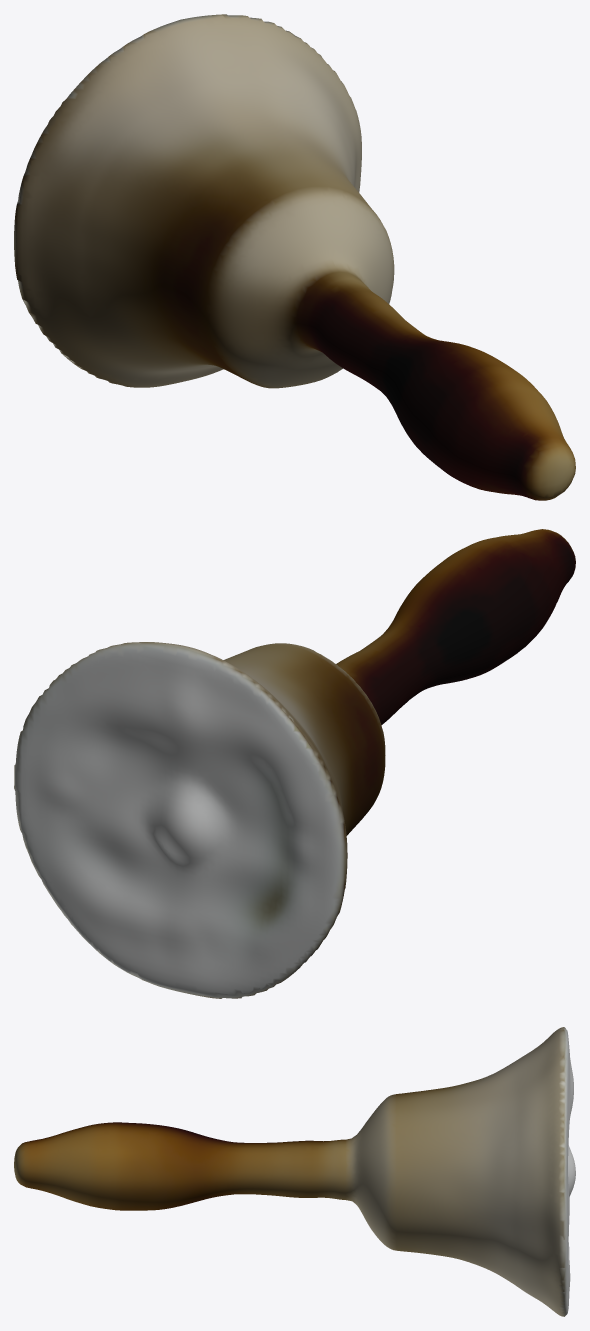
File: bell.glb
3 views of the same model, one above another, from view 1: azimuth 30°, elevation 25°; view 2: azimuth 150°, elevation 25°; view 3: azimuth 270°, elevation 25° (orthographic). The views are drawn at different scales.
Size of the model in its own units: 0.5139 by 0.5103 by 0.9998.
